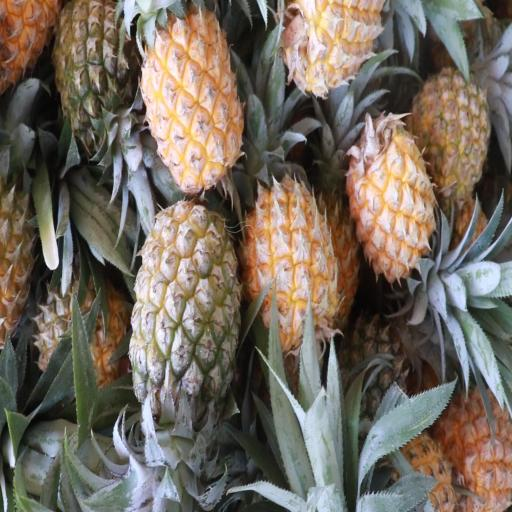------------------------------: (132, 197, 238, 416), (43, 273, 133, 408), (414, 67, 492, 201)
Pineapple - v8 v1: (143, 5, 242, 188), (249, 180, 336, 348), (350, 112, 435, 282), (282, 0, 394, 91)
